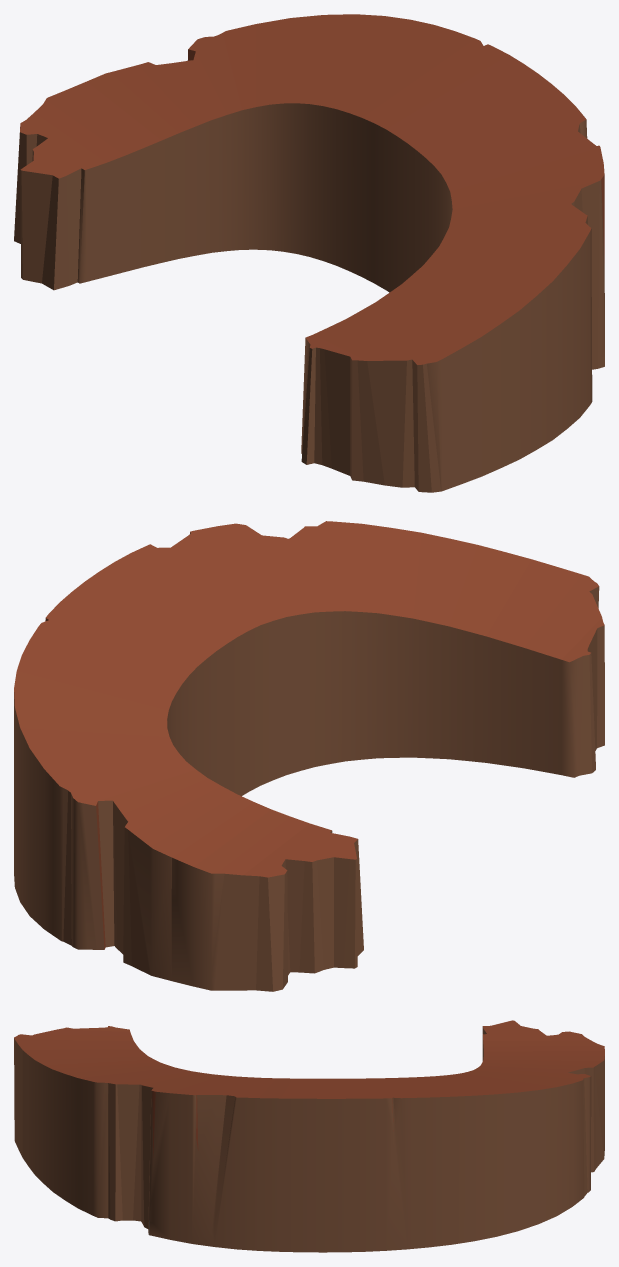
Rendered from LD 2 - Train track pente.fbx.
3 views of the same model, one above another, from view 1: azimuth 30°, elevation 25°; view 2: azimuth 150°, elevation 25°; view 3: azimuth 270°, elevation 25° (orthographic). The views are drawn at different scales.
Visible parts, largest first — view 1: SM_Env_Butte_01__37_.003; view 2: SM_Env_Butte_01__37_.003; view 3: SM_Env_Butte_01__37_.003.
Boxes of the visible parts, x1,y1,x2,y2 form: SM_Env_Butte_01__37_.003: [14, 14, 604, 492]; SM_Env_Butte_01__37_.003: [14, 521, 604, 991]; SM_Env_Butte_01__37_.003: [14, 1020, 604, 1252].
Bounding box in the file's own units: 3930 × 1899 × 6618.
